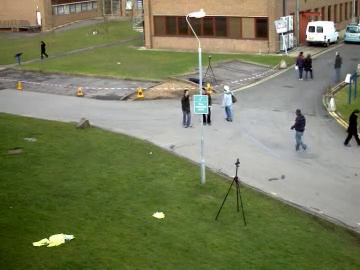person: (179, 87, 194, 129), (179, 85, 193, 128), (179, 87, 194, 127)
